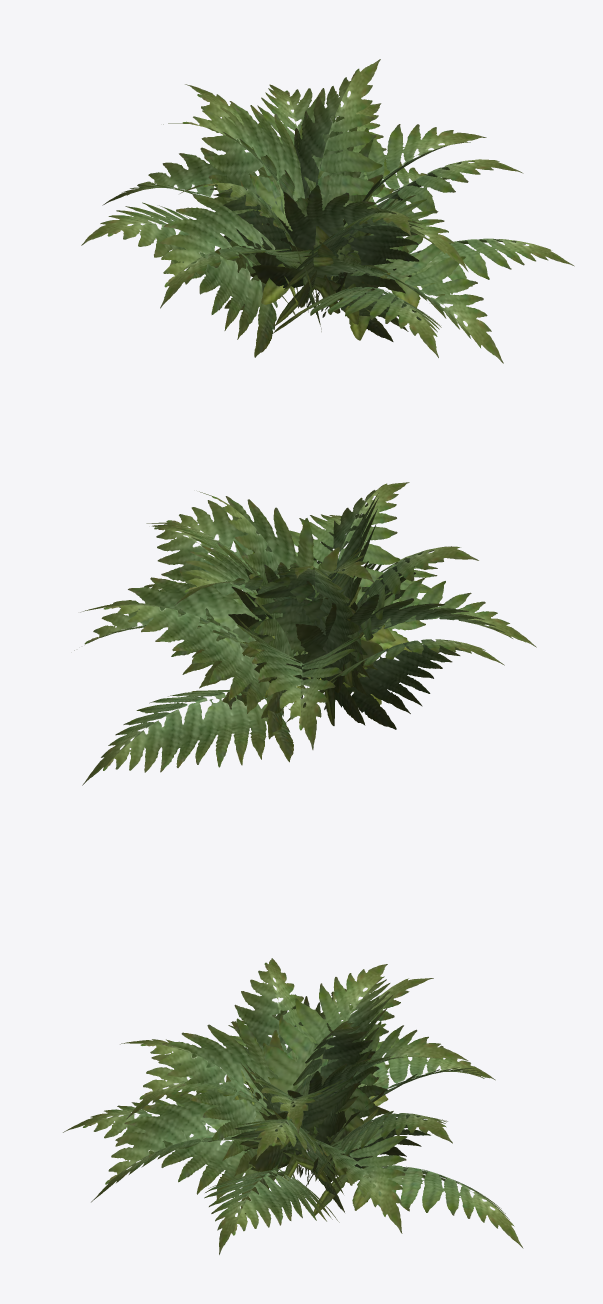
File: fern-big.lod1.glb
3 views of the same model, one above another, from view 1: azimuth 30°, elevation 25°; view 2: azimuth 150°, elevation 25°; view 3: azimuth 270°, elevation 25° (orthographic). The views are drawn at different scales.
Parts seen in each view (by area): view 1: SM_MZRa_Fern_B051_MI_MZRa_Fern_B051_0; view 2: SM_MZRa_Fern_B051_MI_MZRa_Fern_B051_0; view 3: SM_MZRa_Fern_B051_MI_MZRa_Fern_B051_0.
Part boxes in pixels (x1=…): SM_MZRa_Fern_B051_MI_MZRa_Fern_B051_0: x1=81, y1=59, x2=574, y2=363; SM_MZRa_Fern_B051_MI_MZRa_Fern_B051_0: x1=74, y1=482, x2=536, y2=785; SM_MZRa_Fern_B051_MI_MZRa_Fern_B051_0: x1=63, y1=958, x2=523, y2=1254.
Size of the model in its own units: 2.73 by 1.48 by 2.75.
1 material, 1 textured.
